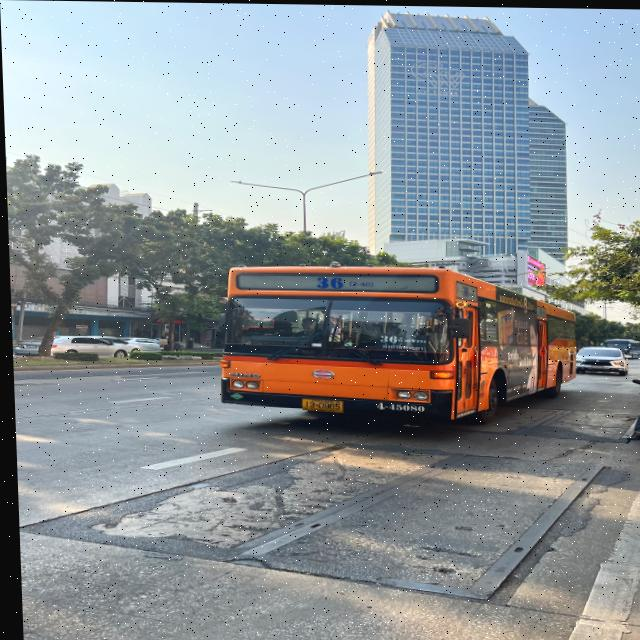BMTA-bus: (213, 261, 578, 425)
Bus-Line-Number: (303, 274, 379, 293)
Destination-Sign-Normal: (374, 331, 427, 350)
